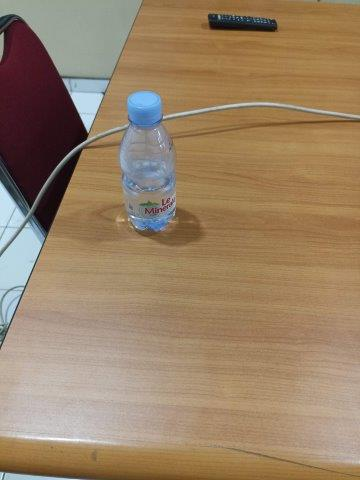botolplastik: (118, 90, 177, 232)
